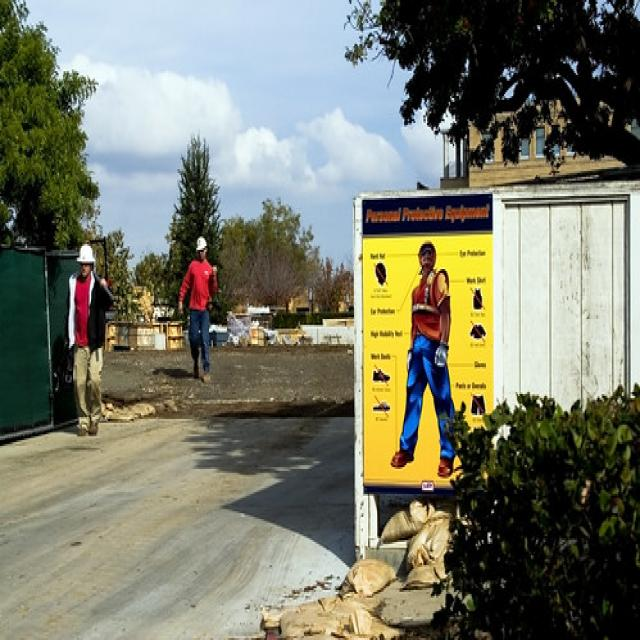Reflective-Jacket: (65, 273, 109, 357), (183, 260, 218, 317)
Safety-Helmet: (74, 238, 98, 267), (194, 232, 210, 254)
